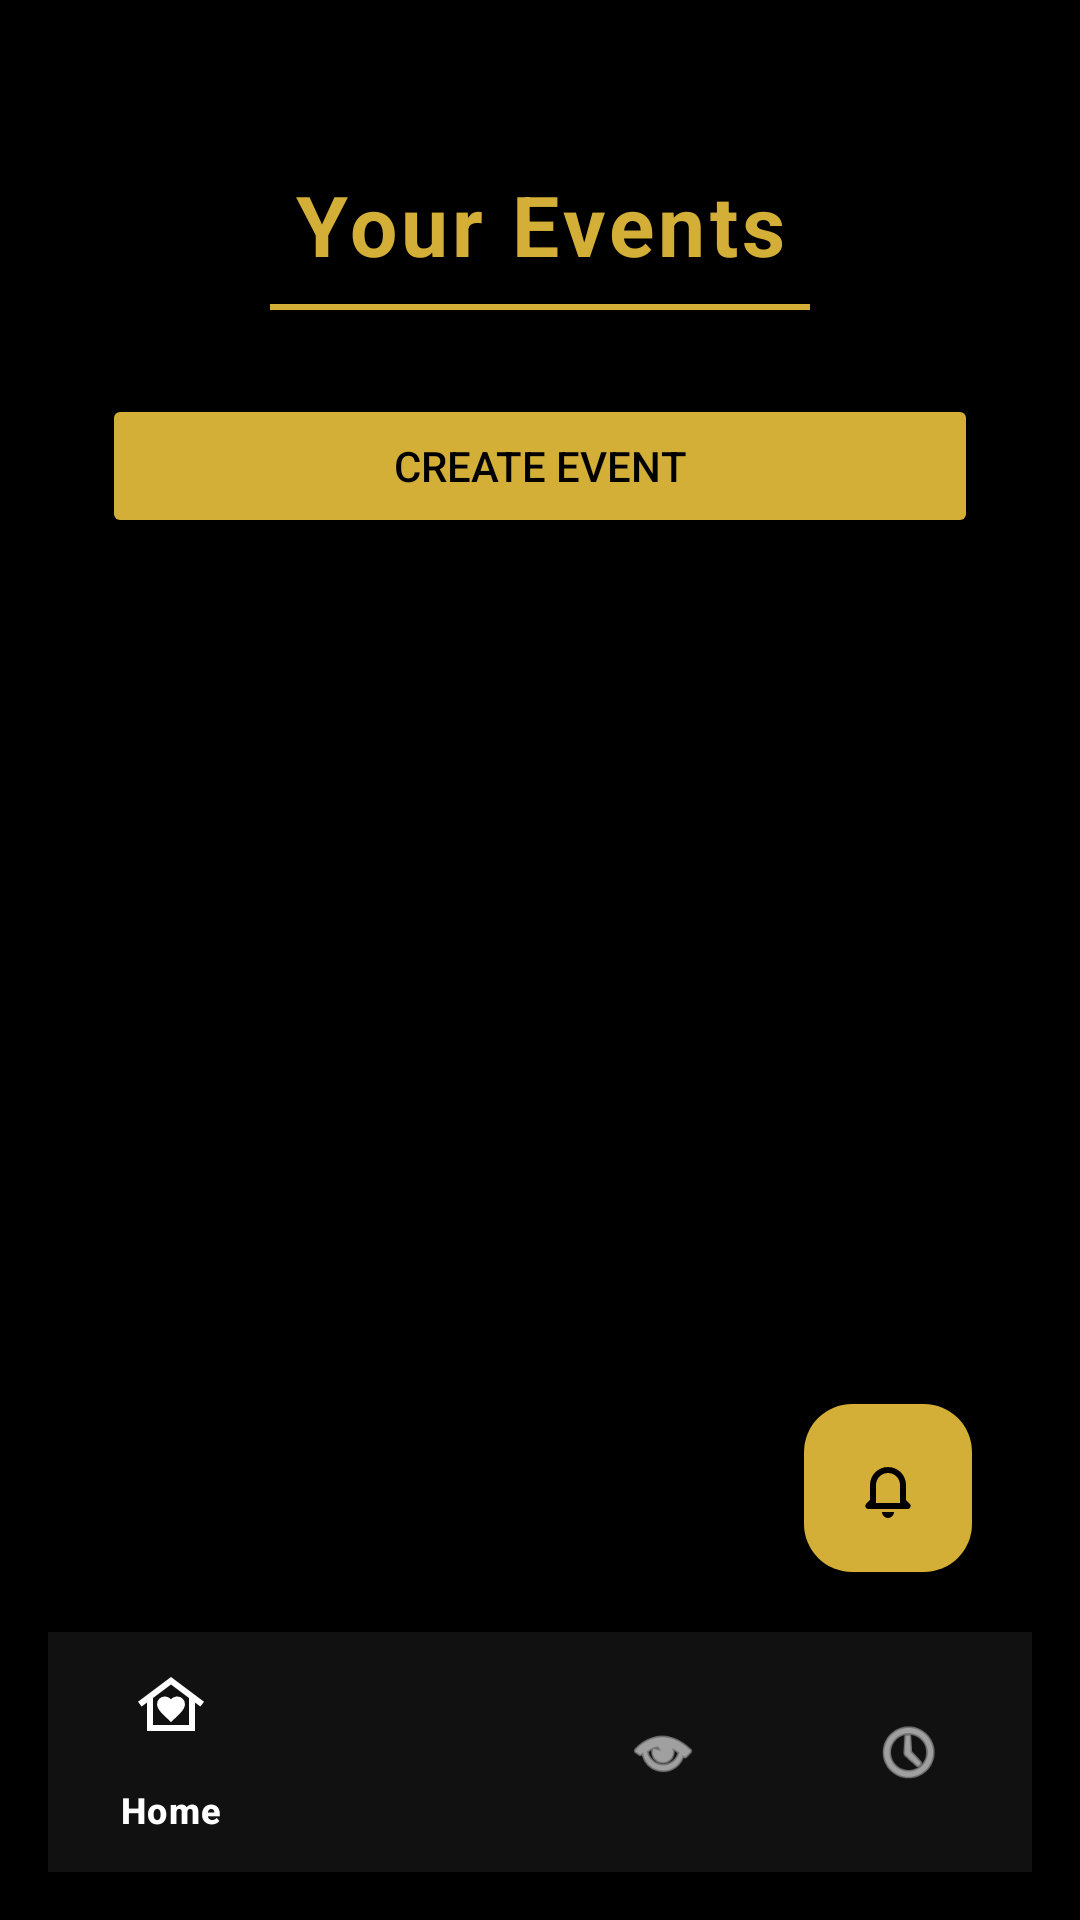

Where to tap for icons on this 1080*1920 app screen, as (x,y):
notifications: (888,1488)
